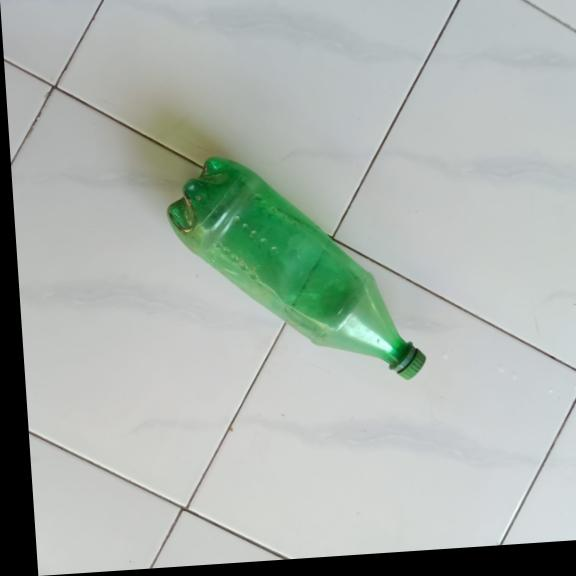Plastik: (162, 144, 428, 398)
